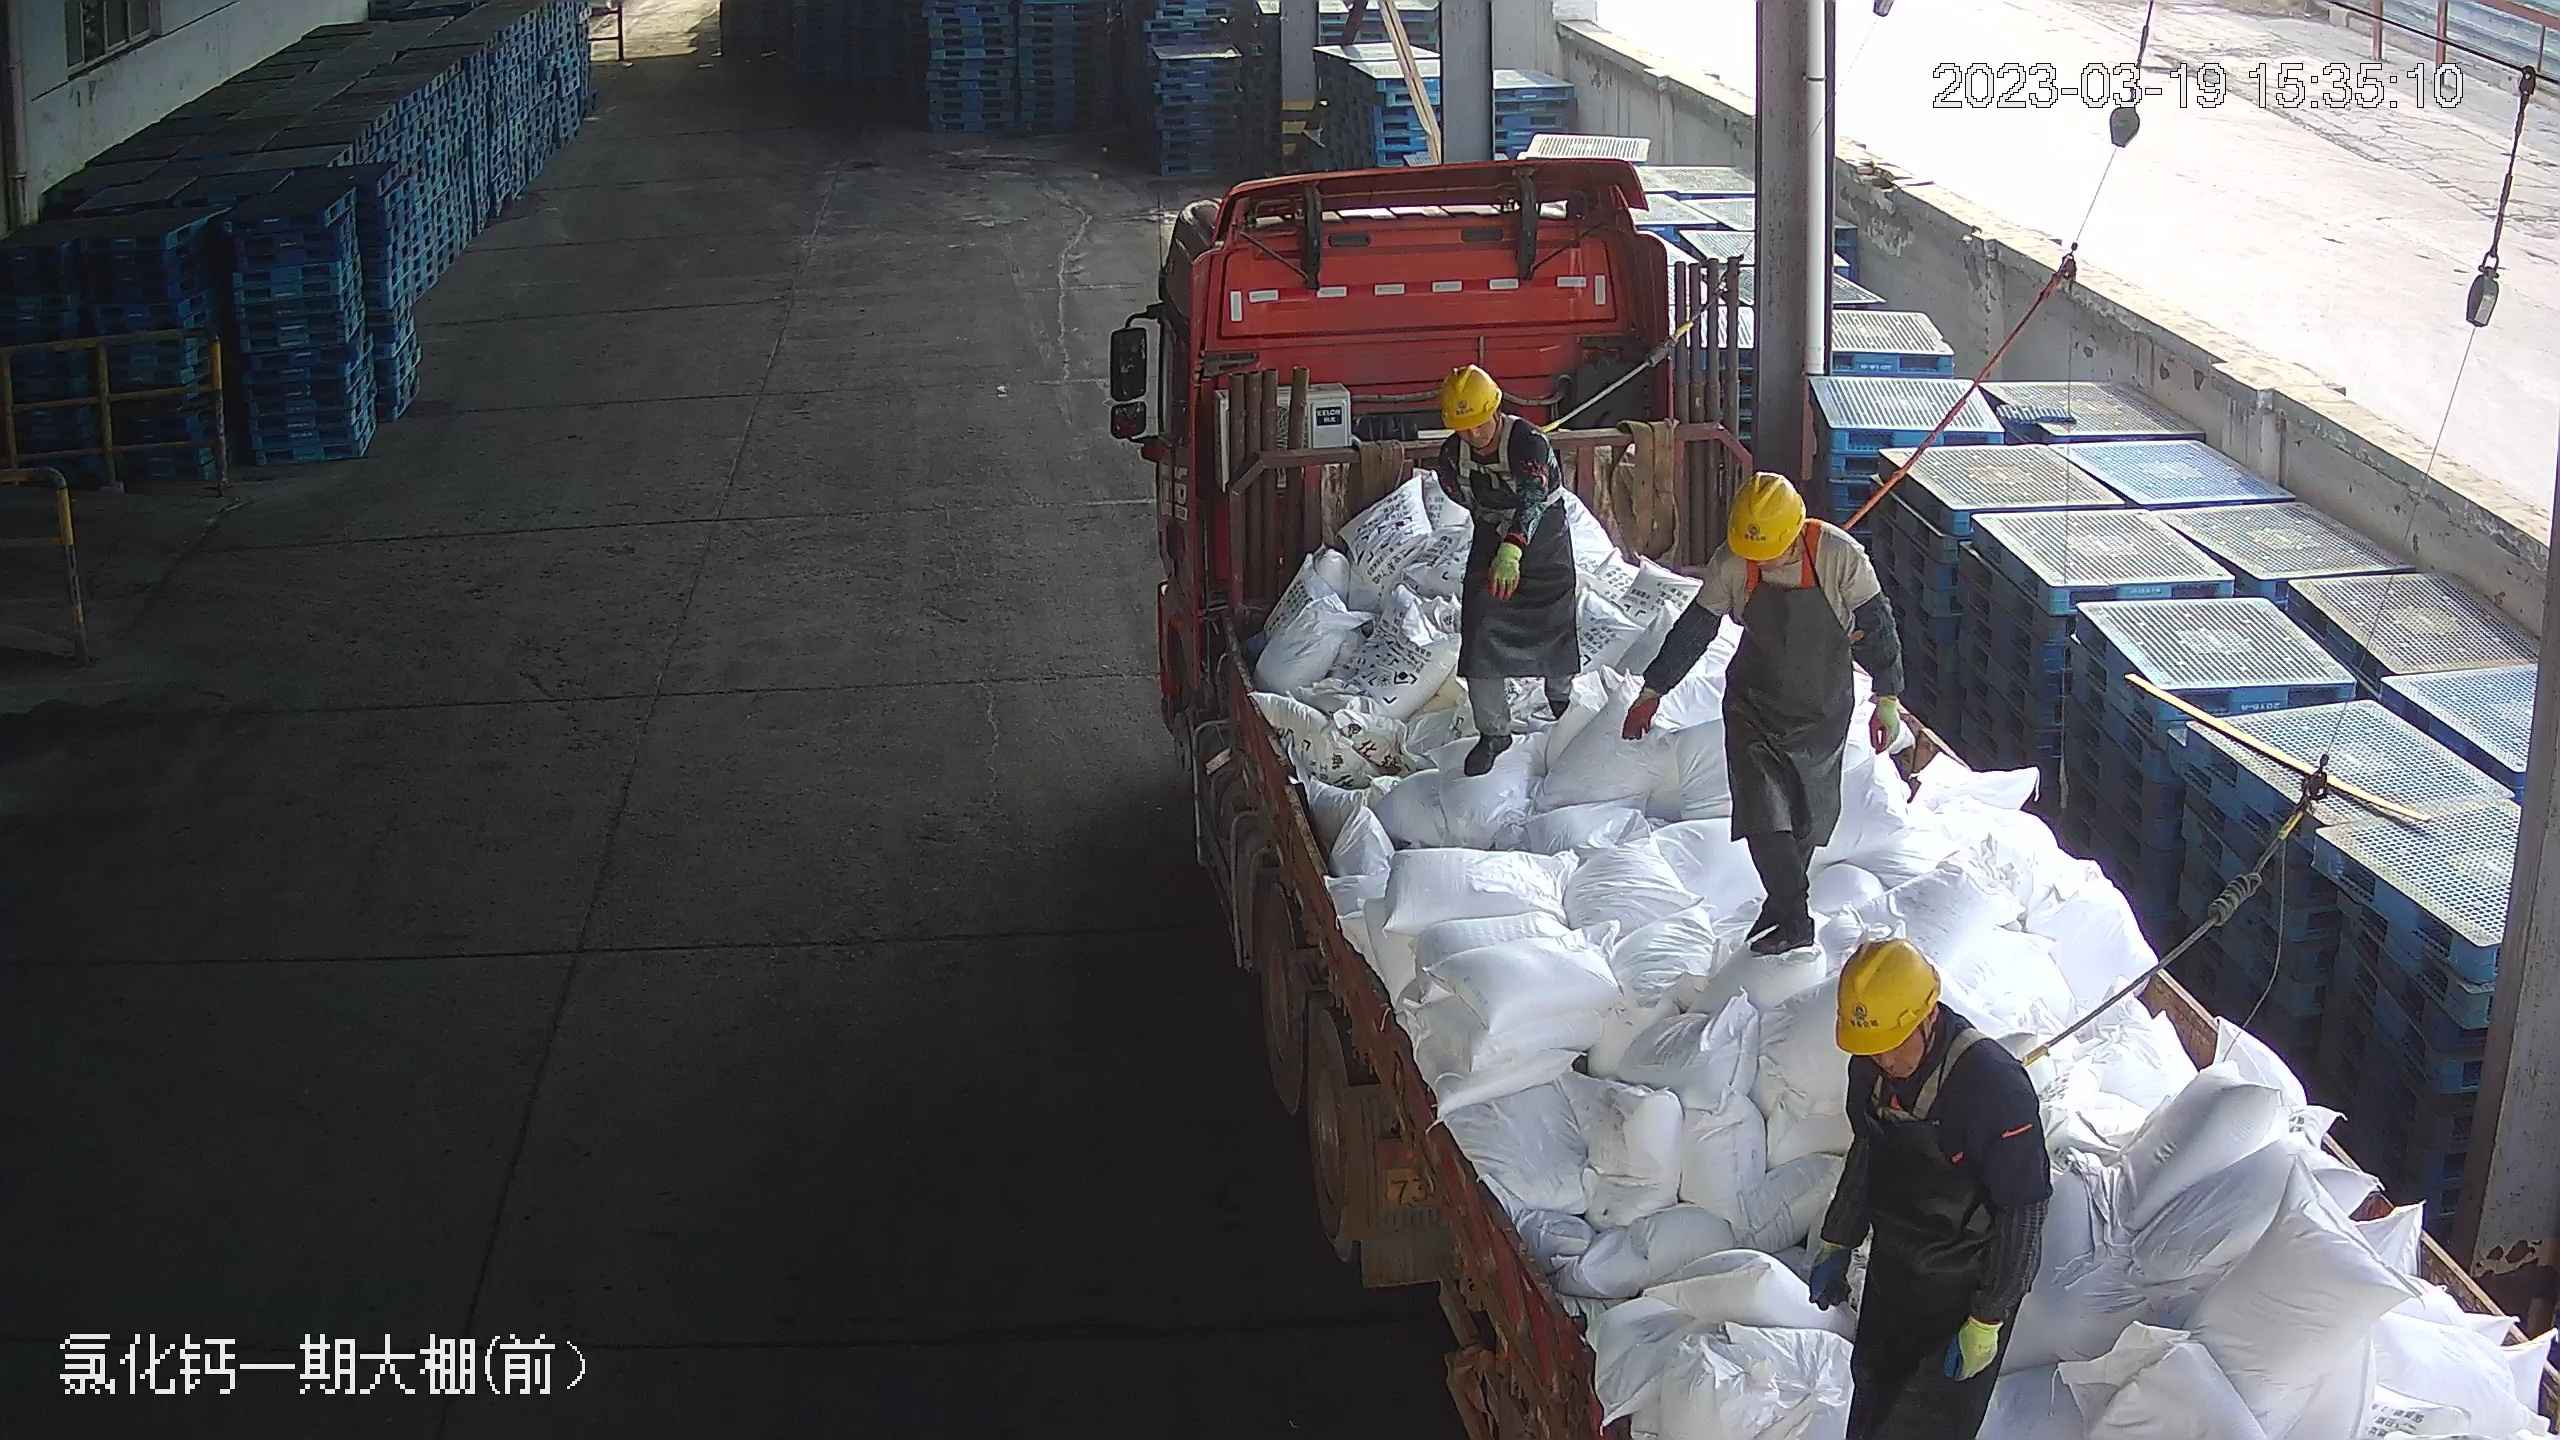belt: (1859, 1009, 2016, 1126), (1748, 508, 1856, 619), (1455, 419, 1538, 511)
head: (1829, 935, 2032, 1139), (1704, 470, 1868, 628), (1431, 361, 1555, 498)
helmet: (1834, 935, 1940, 1055), (1725, 471, 1806, 558), (1437, 361, 1503, 429)
people: (1616, 468, 1904, 951), (1812, 934, 2049, 1432), (1421, 363, 1581, 780)
truck: (1094, 166, 2534, 1428)
